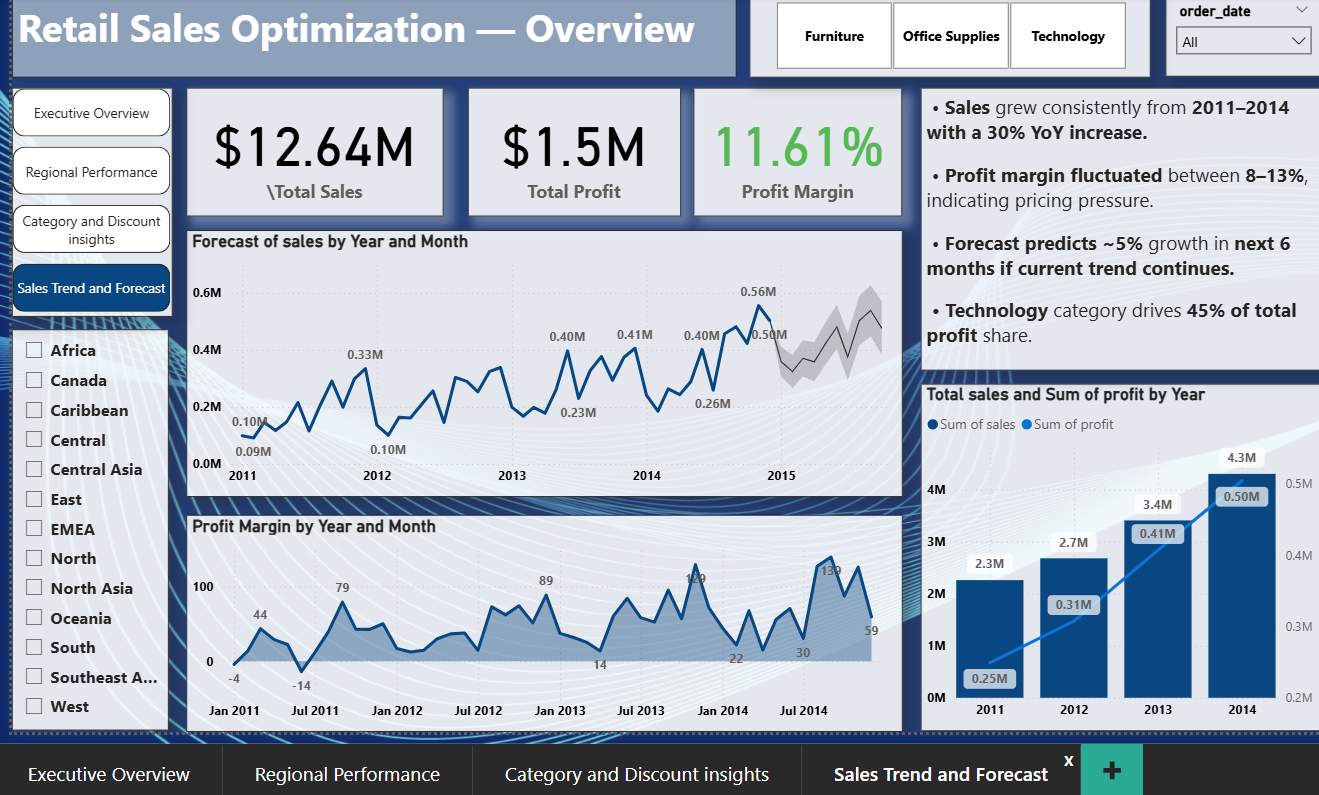

The page's visual inventory and layout, read from the dashboard file:
{"tool":"powerbi","page":{"name":"Sales Trend and Forecast","canvas":[1280,720],"ordinal":3},"visuals":[{"type":"textbox","box":[0,0,707.8,80.4],"z":0},{"type":"card","fields":{"Values":["superstore_engineered.PB_TotalSales"]},"box":[170.6,90.2,251,125.5],"z":1000},{"type":"card","fields":{"Values":["superstore_engineered.PB_TotalProfit"]},"box":[445.1,90.2,207.8,125.5],"z":2000},{"type":"card","fields":{"Values":["superstore_engineered.PB_ProfitMargin"]},"box":[666.7,90.2,203.9,125.5],"z":3000},{"type":"slicer","fields":{"Values":["daily_kpi.order_date"]},"box":[1127.5,2,152.9,78.4],"z":4000},{"type":"lineChart","title":"Forecast of sales by Year and Month","fields":{"Category":["daily_kpi.order_date.Variation.Date Hierarchy.Year","daily_kpi.order_date.Variation.Date Hierarchy.Month"],"Y":["Sum(superstore_engineered.sales)"]},"box":[170.6,229.4,700,260.8],"z":5000},{"type":"lineClusteredColumnComboChart","title":"Total sales and Sum of profit by Year","fields":{"Category":["daily_kpi.order_date.Variation.Date Hierarchy.Year"],"Y":["Sum(superstore_engineered.sales)"],"Y2":["Sum(superstore_engineered.profit)"]},"box":[888.2,380.4,392.2,339.2],"z":6000},{"type":"slicer","fields":{"Values":["region_summary.region"]},"box":[0,327.5,152.9,392.2],"z":7000},{"type":"slicer","fields":{"Values":["category_region_summary.category"]},"box":[721.6,0,392.2,80.4],"z":8000},{"type":"areaChart","title":" Profit Margin by Year and Month","fields":{"Category":["daily_kpi.order_date.Variation.Date Hierarchy.Year","daily_kpi.order_date.Variation.Date Hierarchy.Month"],"Y":["Sum(superstore_engineered.profit_margin)"]},"box":[170.6,507.8,700,211.8],"z":9000},{"type":"textbox","box":[888.2,90.2,392.2,276.5],"z":10000},{"type":"pageNavigator","box":[0,90.2,156.9,223.5],"z":11000}]}

Visuals, with their boxes in screenshot pixels (x1, y1, x2, y2):
textbox: {"left": 10, "top": 0, "right": 730, "bottom": 75}
card - superstore_engineered.PB_TotalSales: {"left": 184, "top": 85, "right": 439, "bottom": 212}
card - superstore_engineered.PB_TotalProfit: {"left": 463, "top": 85, "right": 674, "bottom": 212}
card - superstore_engineered.PB_ProfitMargin: {"left": 688, "top": 85, "right": 895, "bottom": 212}
slicer - daily_kpi.order_date: {"left": 1156, "top": 0, "right": 1311, "bottom": 75}
"Forecast of sales by Year and Month" lineChart: {"left": 184, "top": 226, "right": 895, "bottom": 491}
"Total sales and Sum of profit by Year" lineClusteredColumnComboChart: {"left": 913, "top": 380, "right": 1311, "bottom": 724}
slicer - region_summary.region: {"left": 10, "top": 326, "right": 166, "bottom": 725}
slicer - category_region_summary.category: {"left": 744, "top": 0, "right": 1142, "bottom": 75}
" Profit Margin by Year and Month" areaChart: {"left": 184, "top": 509, "right": 895, "bottom": 724}
textbox: {"left": 913, "top": 85, "right": 1311, "bottom": 366}
pageNavigator: {"left": 10, "top": 85, "right": 170, "bottom": 312}
